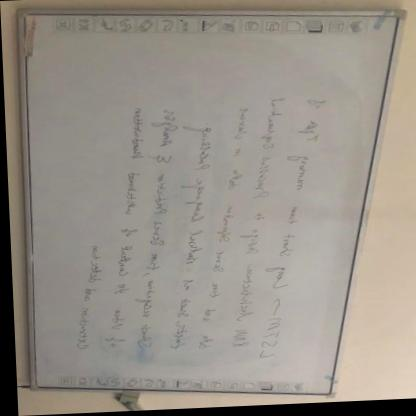Handwritten text: (239, 89, 333, 372), (212, 87, 294, 359), (179, 99, 259, 358), (141, 111, 225, 356), (85, 96, 154, 356), (118, 103, 185, 356), (58, 237, 107, 357)
Whiteboard: (19, 10, 404, 397)
